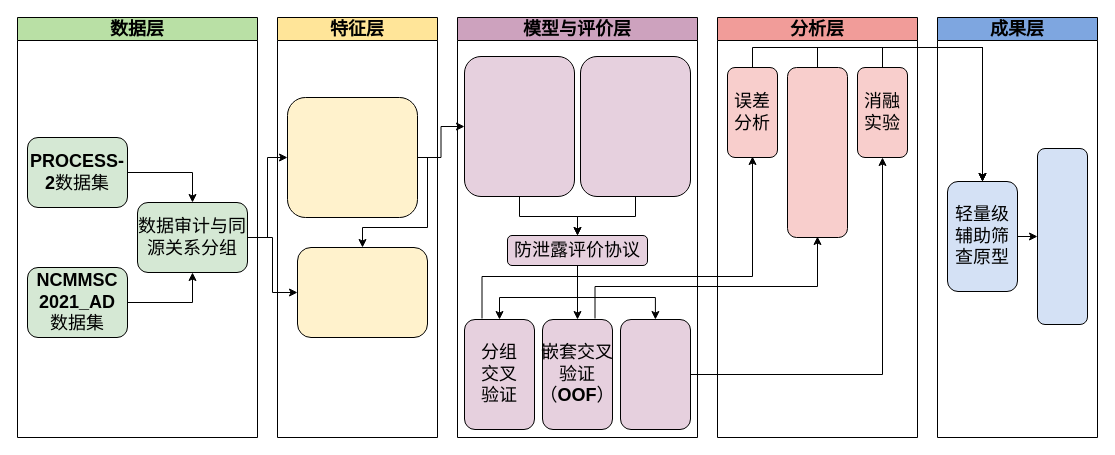
The diagram is 1115 pixels wide and 455 high, and some of its shapes have lost their labels. The shapes that lost their labels are listed below. From the top down, each one's centre as x and y in pixels, then its label:
At point 519,126: "传统机器学习 （ SVM、RF、XGBoost ）".
At point 635,126: "深度学习 （ CNN 基线、 扩展主对照）".
At point 352,157: "声学特征提取（ eGeMAPS 、 IS10 、 Mel 谱图）".
At point 817,152: "可解 释性 分析（ SHAP /注意力）".
At point 1062,236: "毕 业 设 计 论 文".
At point 362,292: "语言与语义特征（ Whisper 转写、 BERT 表示）".
At point 655,374: "独立 TEST 隔离".
